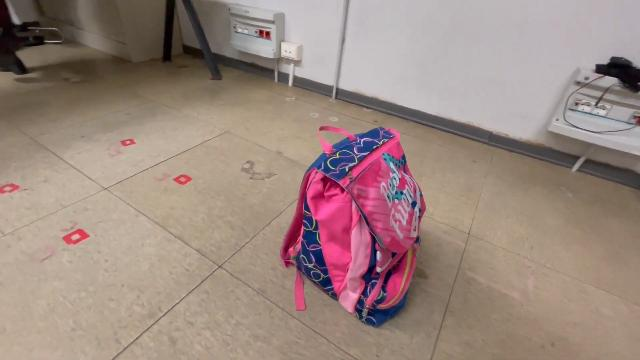Backpack: (274, 120, 432, 332)
